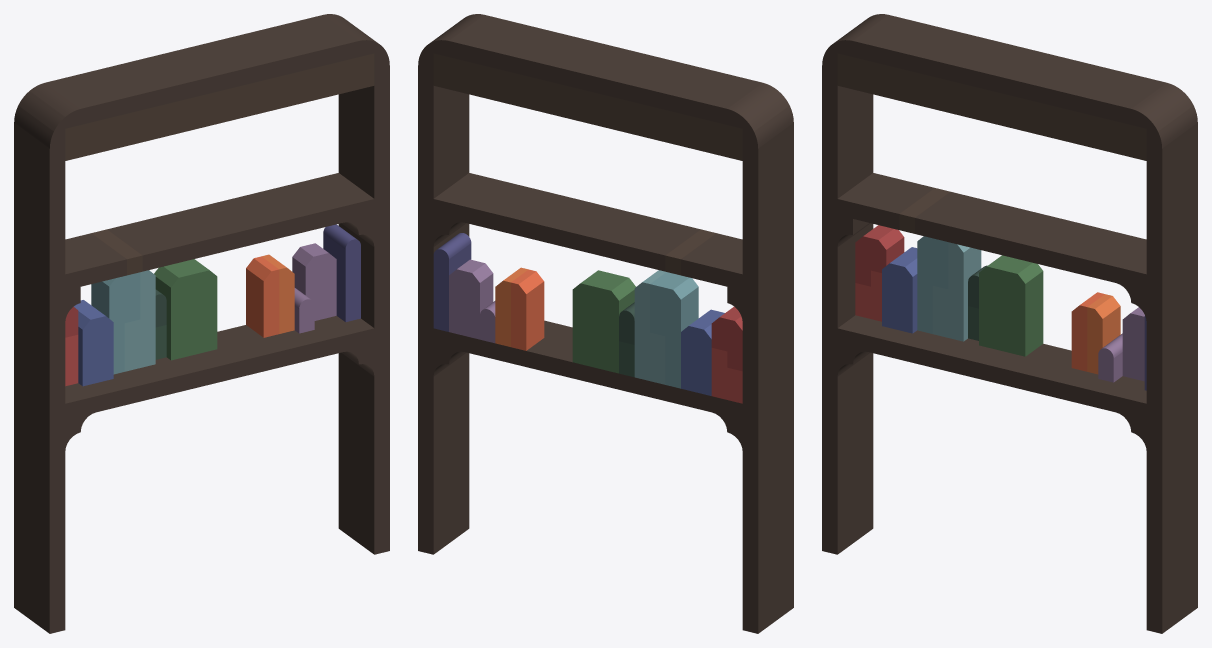
Rendered from shelf.glb.
3 views of the same model, side by side, from view 1: azimuth 30°, elevation 25°; view 2: azimuth 150°, elevation 25°; view 3: azimuth 330°, elevation 25° (orthographic).
Parts seen in each view (by area): view 1: generated(Clone); view 2: generated(Clone); view 3: generated(Clone).
Boxes of the visible parts, x1=… form: generated(Clone): x1=14, y1=14, x2=389, y2=633; generated(Clone): x1=418, y1=14, x2=793, y2=633; generated(Clone): x1=822, y1=14, x2=1197, y2=633.
Bounding box in the file's own units: 16.5 × 24 × 3.
1 material, 1 textured.
